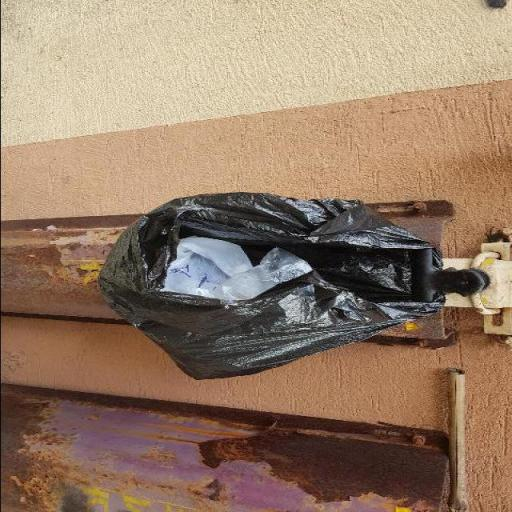plastic-bag: (95, 189, 447, 381)
